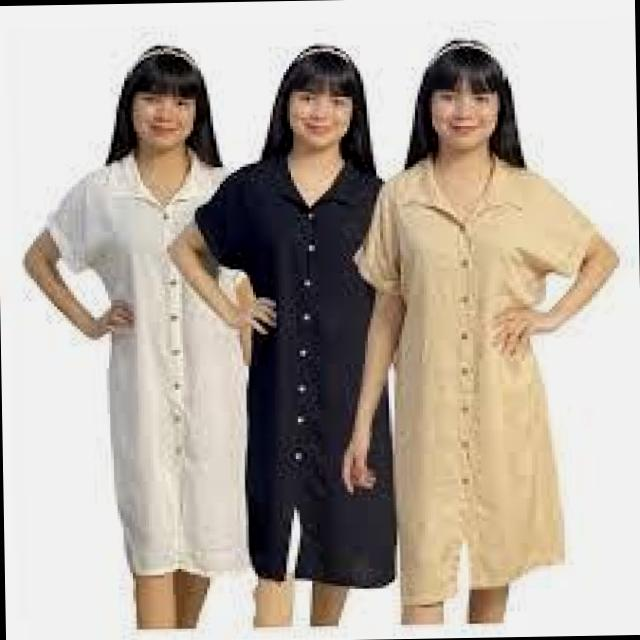dress: (360, 148, 601, 598), (35, 154, 244, 586), (198, 151, 393, 587)
